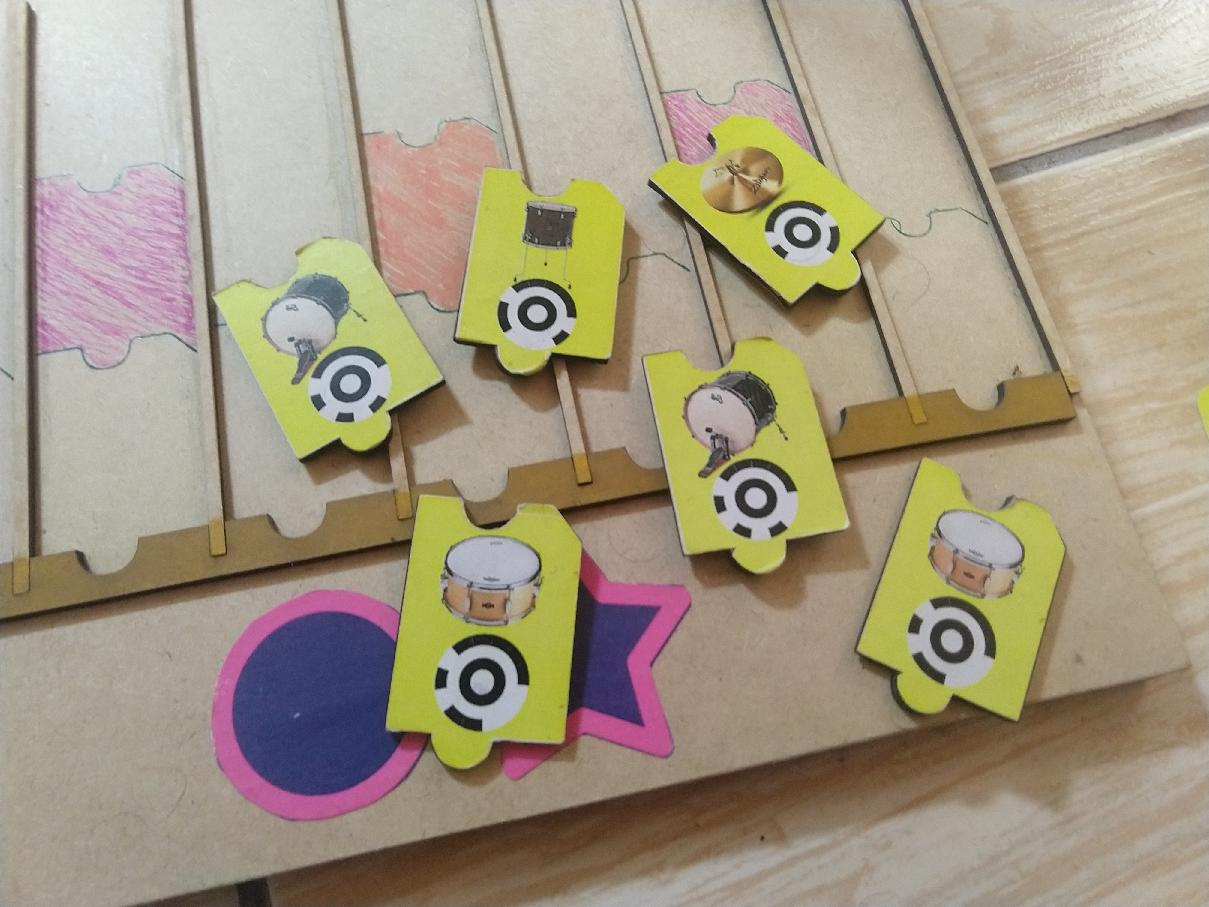bumbo: (210, 231, 445, 464), (639, 335, 851, 580)
